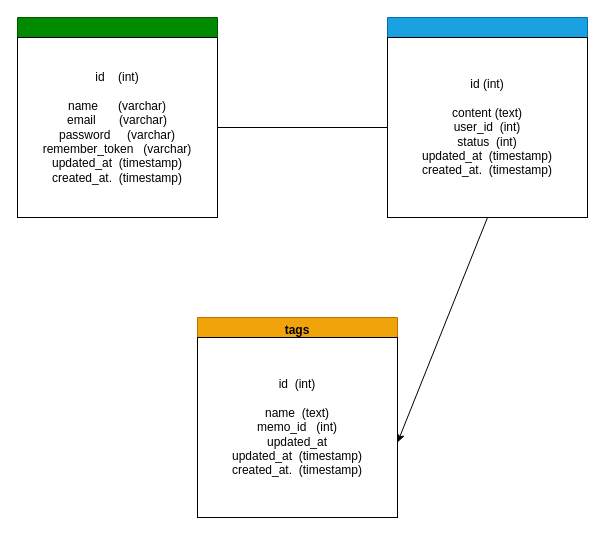
Image size: 605x535. Some labels were removed from this diagram. Each missing label, with the box of its shape:
memos: (386, 16, 588, 218)
users: (16, 16, 218, 218)
